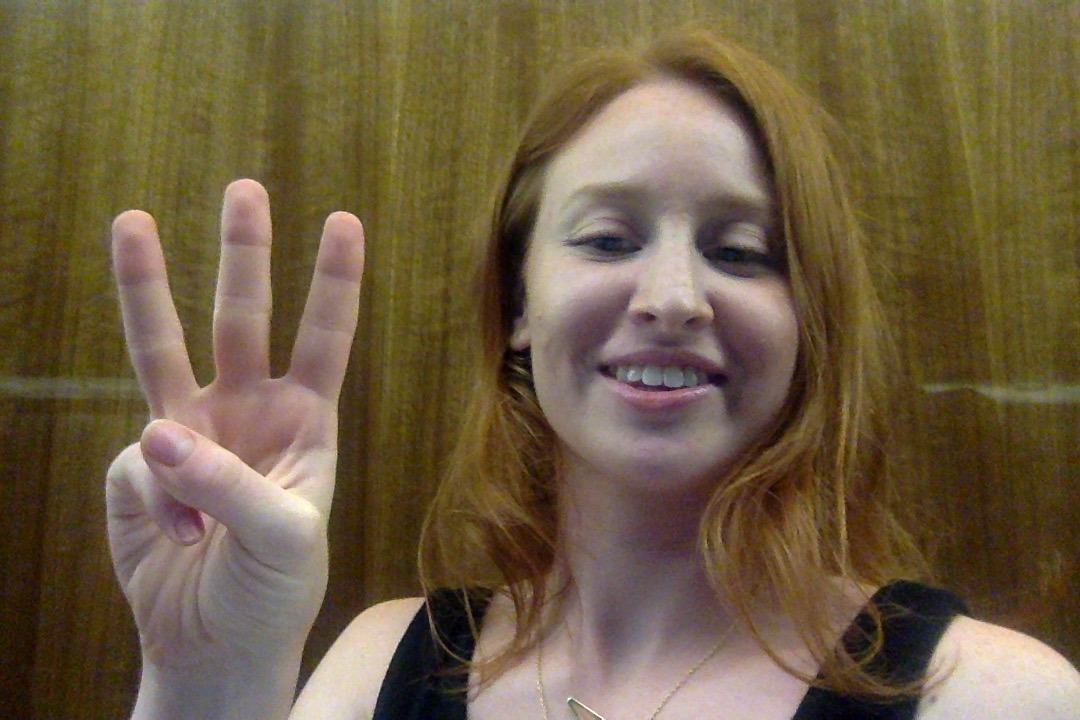w: (81, 174, 370, 646)
